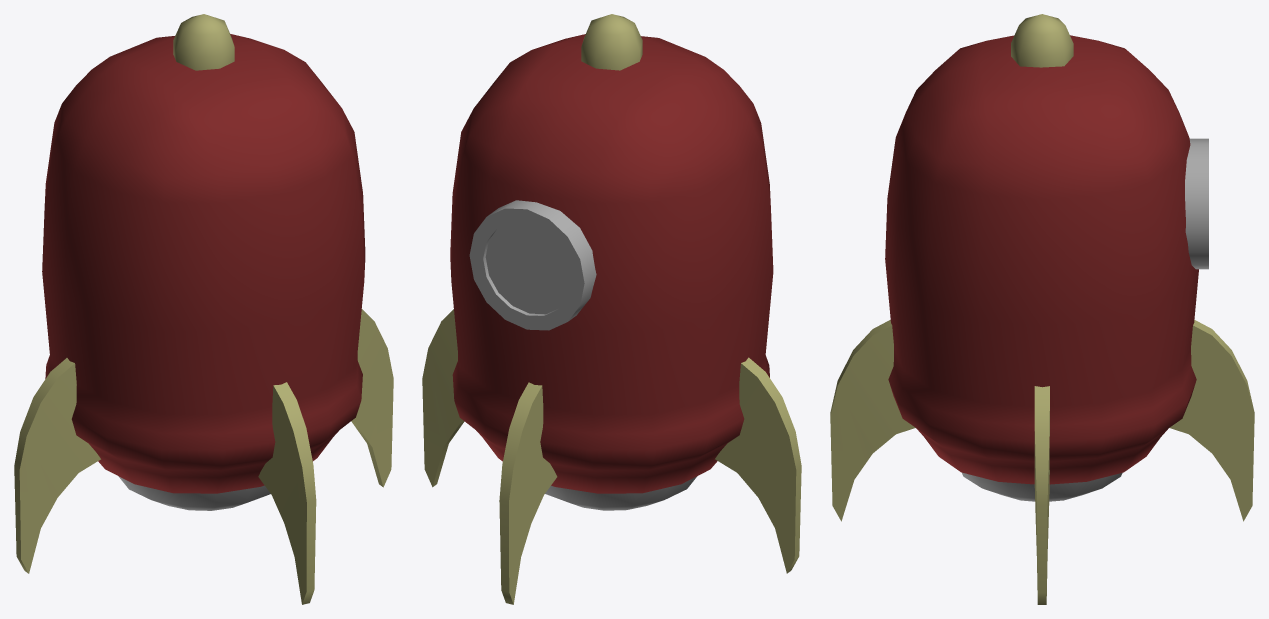
Rendered from SpaceShip01.fbx.
3 views of the same model, side by side, from view 1: azimuth 30°, elevation 25°; view 2: azimuth 150°, elevation 25°; view 3: azimuth 270°, elevation 25° (orthographic).
Parts seen in each view (by area): view 1: RocketShip; view 2: RocketShip; view 3: RocketShip.
Boxes of the visible parts, x1,y1,x2,y2 form: RocketShip: (14, 14, 393, 604); RocketShip: (422, 14, 801, 604); RocketShip: (830, 14, 1254, 604).
Bounding box in the file's own units: 181 × 238 × 181.
